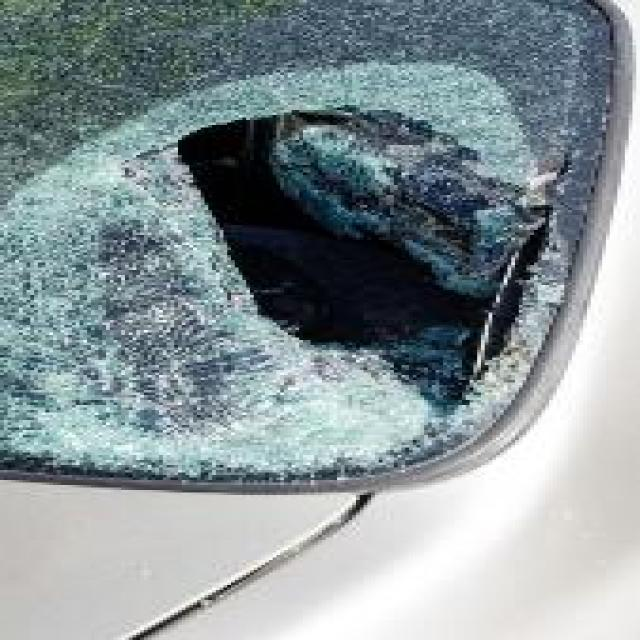Windshield: (4, 5, 610, 528)
